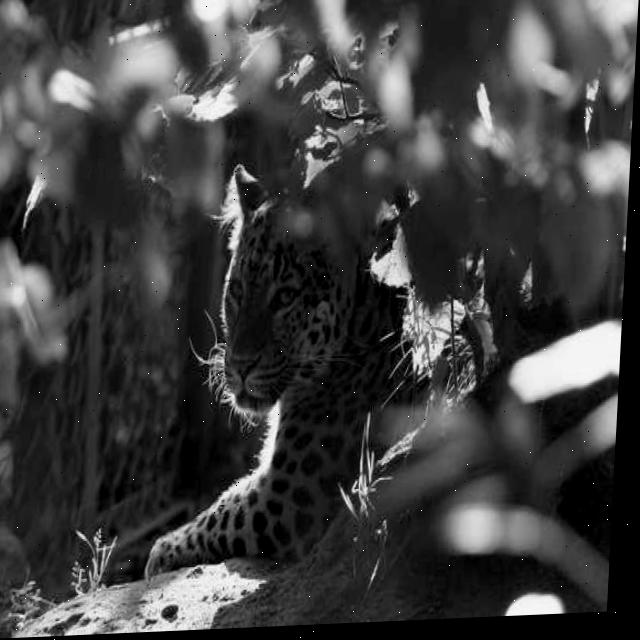Leopard: (175, 157, 414, 512)
